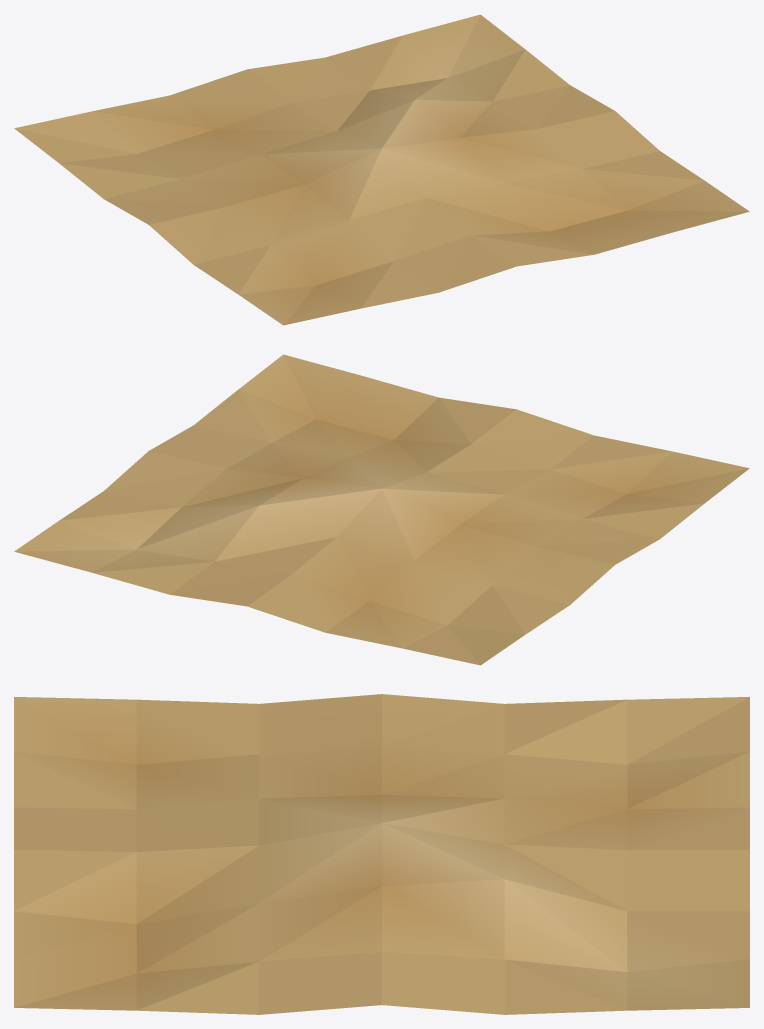
The model's file is Mixed_Ground_02.fbx.
3 renders of one model, top to bottom at view 1: azimuth 30°, elevation 25°; view 2: azimuth 150°, elevation 25°; view 3: azimuth 270°, elevation 25°, orthographic. The views are drawn at different scales.
Visible parts, largest first — view 1: Ground_02.001; view 2: Ground_02.001; view 3: Ground_02.001.
Part boxes in pixels (bbox=[...]): Ground_02.001: bbox=[14, 14, 749, 325]; Ground_02.001: bbox=[14, 354, 749, 665]; Ground_02.001: bbox=[14, 694, 749, 1014].
Size of the model in its own units: 1000 by 73.81 by 1000.
